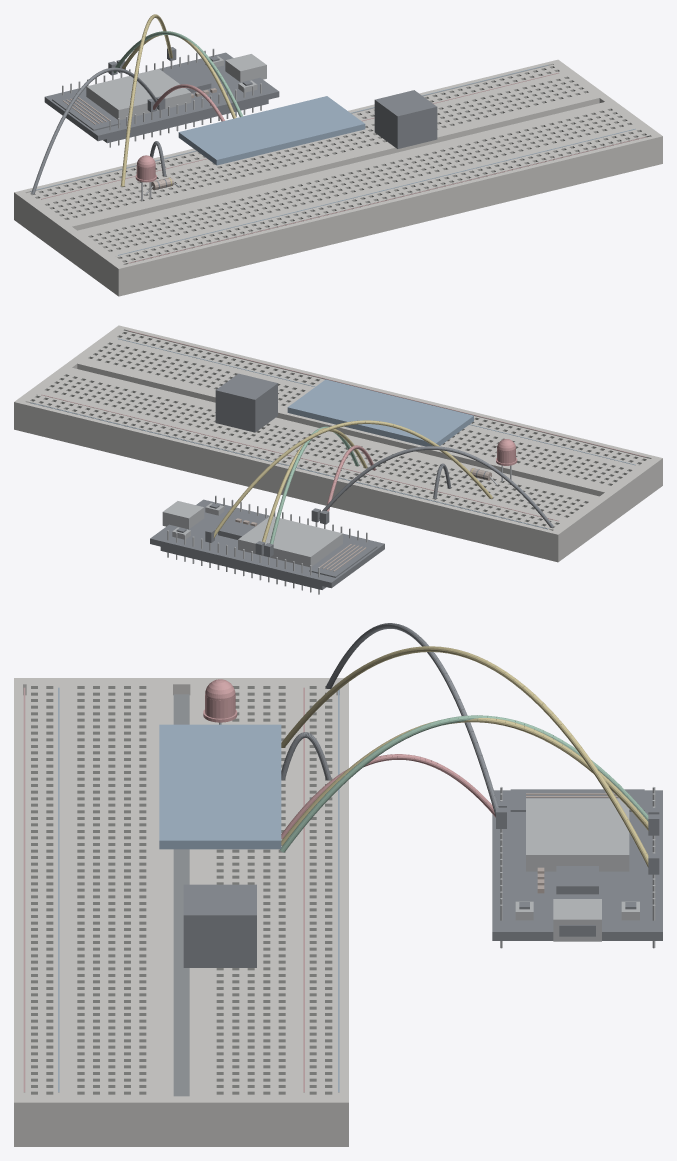
The model's file is step-12.glb.
The picture shows the model from 3 angles, top to bottom: view 1: azimuth 30°, elevation 25°; view 2: azimuth 150°, elevation 25°; view 3: azimuth 270°, elevation 25°; orthographic projection. The views are drawn at different scales.
Parts seen in each view (by area): view 1: breadboard__mesh, uno__mesh, sensor__mesh, buzzer__mesh, wire_led_signal__mesh, wire_ground__mesh, wire_sensor_echo__mesh, led_red__mesh, wire_sensor_trig__mesh, wire_sensor_power__mesh; view 2: breadboard__mesh, uno__mesh, sensor__mesh, buzzer__mesh, wire_led_signal__mesh, wire_ground__mesh, wire_sensor_echo__mesh, wire_sensor_trig__mesh, led_red__mesh, wire_sensor_power__mesh; view 3: breadboard__mesh, uno__mesh, sensor__mesh, buzzer__mesh, wire_led_signal__mesh, wire_sensor_echo__mesh, wire_ground__mesh, wire_sensor_trig__mesh, wire_sensor_power__mesh, led_red__mesh.
Part boxes in pixels (bbox=[...]): breadboard__mesh: bbox=[14, 59, 662, 296]; uno__mesh: bbox=[44, 48, 279, 147]; sensor__mesh: bbox=[178, 96, 365, 165]; buzzer__mesh: bbox=[374, 90, 437, 148]; wire_led_signal__mesh: bbox=[121, 14, 176, 186]; wire_ground__mesh: bbox=[31, 67, 165, 194]; wire_sensor_echo__mesh: bbox=[108, 31, 242, 116]; led_red__mesh: bbox=[135, 155, 156, 200]; wire_sensor_trig__mesh: bbox=[116, 31, 236, 118]; wire_sensor_power__mesh: bbox=[147, 84, 224, 121]; breadboard__mesh: bbox=[14, 325, 662, 562]; uno__mesh: bbox=[150, 495, 384, 594]; sensor__mesh: bbox=[287, 379, 473, 446]; buzzer__mesh: bbox=[215, 373, 277, 432]; wire_led_signal__mesh: bbox=[205, 420, 492, 542]; wire_ground__mesh: bbox=[311, 446, 553, 527]; wire_sensor_echo__mesh: bbox=[264, 426, 358, 557]; wire_sensor_trig__mesh: bbox=[255, 427, 367, 555]; led_red__mesh: bbox=[496, 439, 517, 482]; wire_sensor_power__mesh: bbox=[320, 445, 375, 524]; breadboard__mesh: bbox=[14, 678, 348, 1146]; uno__mesh: bbox=[492, 787, 662, 948]; sensor__mesh: bbox=[159, 724, 281, 849]; buzzer__mesh: bbox=[183, 884, 256, 967]; wire_led_signal__mesh: bbox=[281, 646, 659, 874]; wire_sensor_echo__mesh: bbox=[280, 715, 659, 852]; wire_ground__mesh: bbox=[326, 623, 506, 828]; wire_sensor_trig__mesh: bbox=[281, 718, 659, 845]; wire_sensor_power__mesh: bbox=[281, 754, 506, 838]; led_red__mesh: bbox=[203, 679, 237, 724].
Bounding box in the file's own units: 0.165 × 0.0366 × 0.1065.
